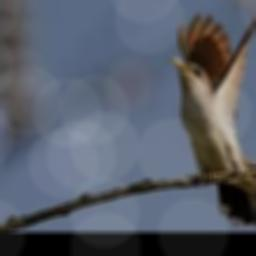Cuckoo: (168, 0, 256, 225)
